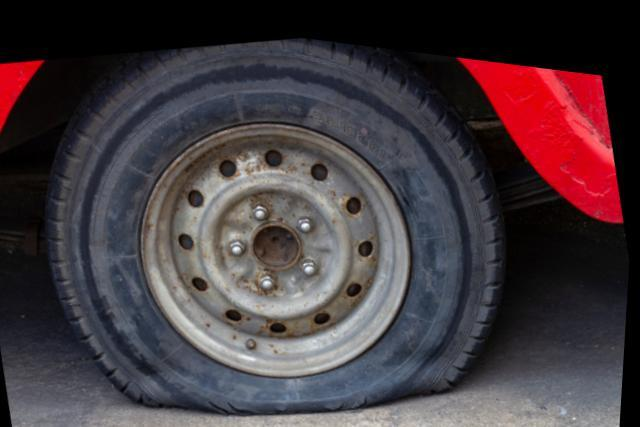tire flat: (51, 30, 508, 409)
